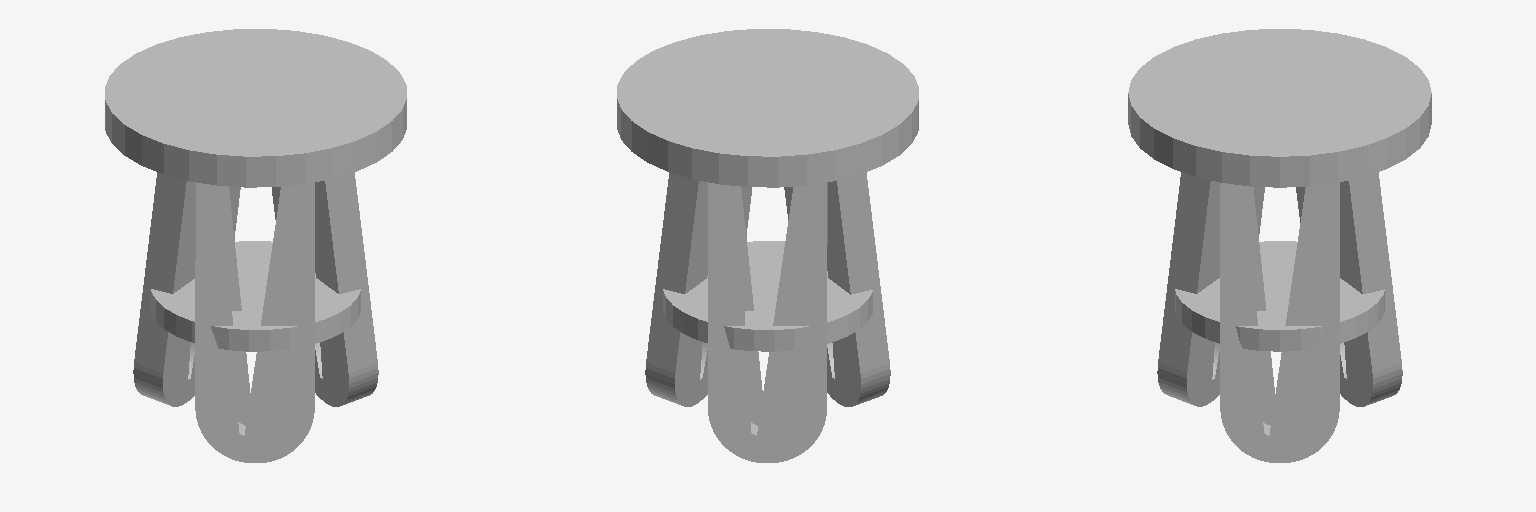
File: curved_leg_stool.obj
3 renders of one model, left to right at view 1: azimuth 30°, elevation 25°; view 2: azimuth 150°, elevation 25°; view 3: azimuth 270°, elevation 25°, orthographic.
Visible parts, largest first — view 1: Cube, Cylinder, Cylinder.001; view 2: Cube, Cylinder, Cylinder.001; view 3: Cube, Cylinder, Cylinder.001.
Part boxes in pixels (bbox=[...]): Cube: bbox=[133, 172, 378, 462]; Cylinder: bbox=[105, 29, 406, 187]; Cylinder.001: bbox=[151, 241, 360, 351]; Cube: bbox=[645, 172, 890, 462]; Cylinder: bbox=[617, 29, 918, 187]; Cylinder.001: bbox=[663, 241, 872, 351]; Cube: bbox=[1157, 172, 1402, 462]; Cylinder: bbox=[1128, 29, 1431, 187]; Cylinder.001: bbox=[1175, 241, 1384, 351].
Size of the model in its own units: 0.3556 by 0.4222 by 0.3556.